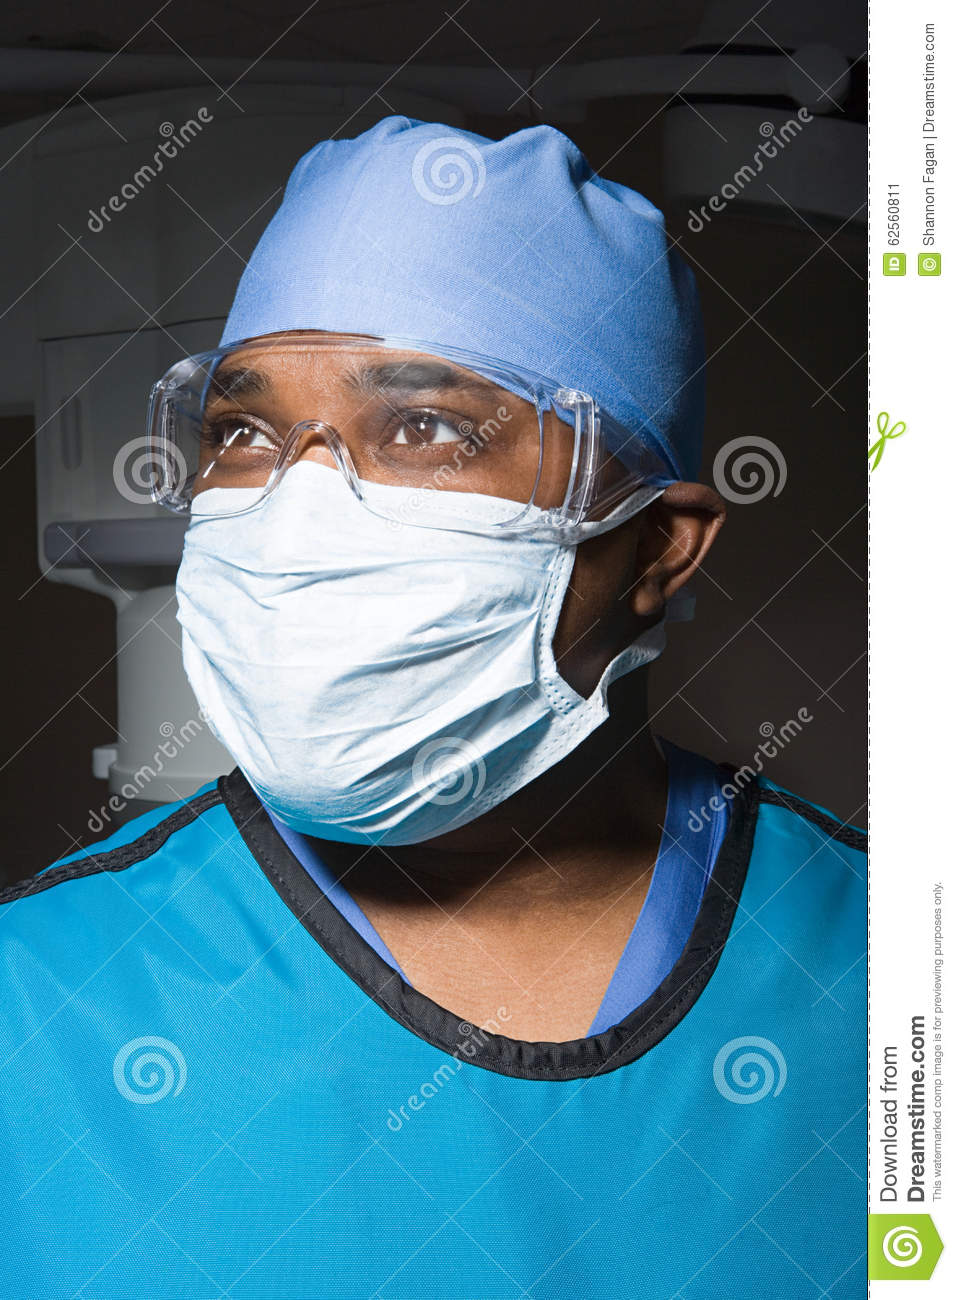mask: (158, 467, 572, 873)
